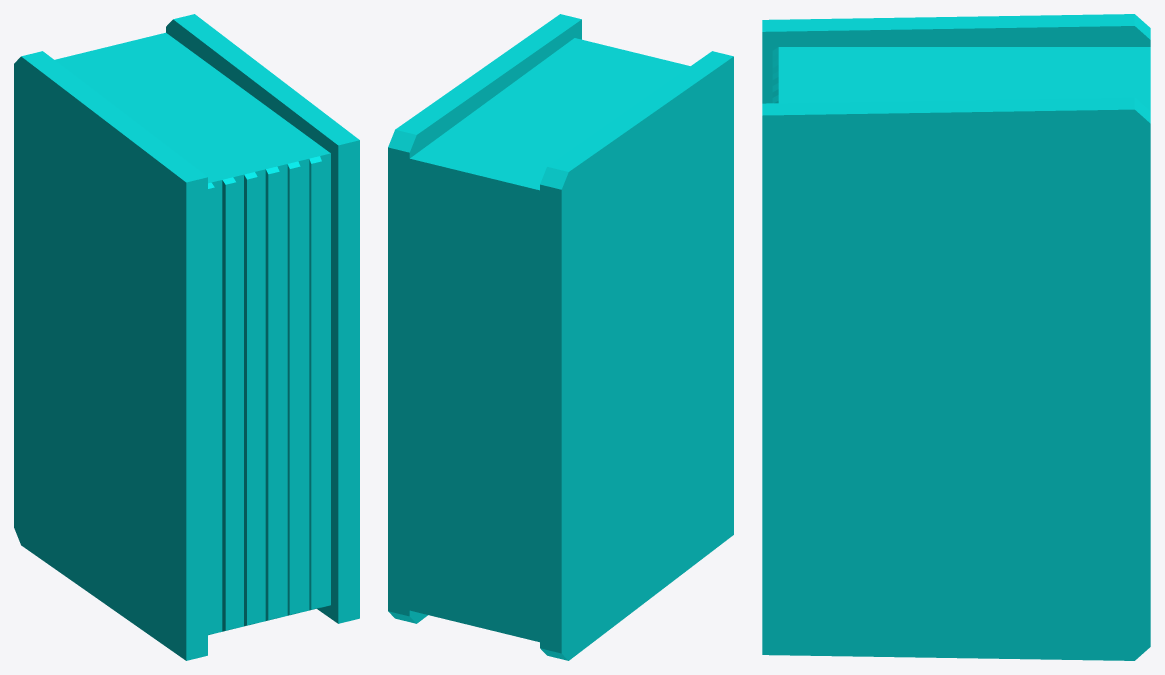
Rendered from book.fbx.
3 renders of one model, left to right at view 1: azimuth 30°, elevation 25°; view 2: azimuth 150°, elevation 25°; view 3: azimuth 270°, elevation 25°, orthographic. The views are drawn at different scales.
Parts seen in each view (by area): view 1: Cube; view 2: Cube; view 3: Cube.
Part boxes in pixels (<box>): Cube: <box>14,14,359,660</box>; Cube: <box>388,14,733,660</box>; Cube: <box>762,14,1150,660</box>.
Bounding box in the file's own units: 200 × 538 × 344.
